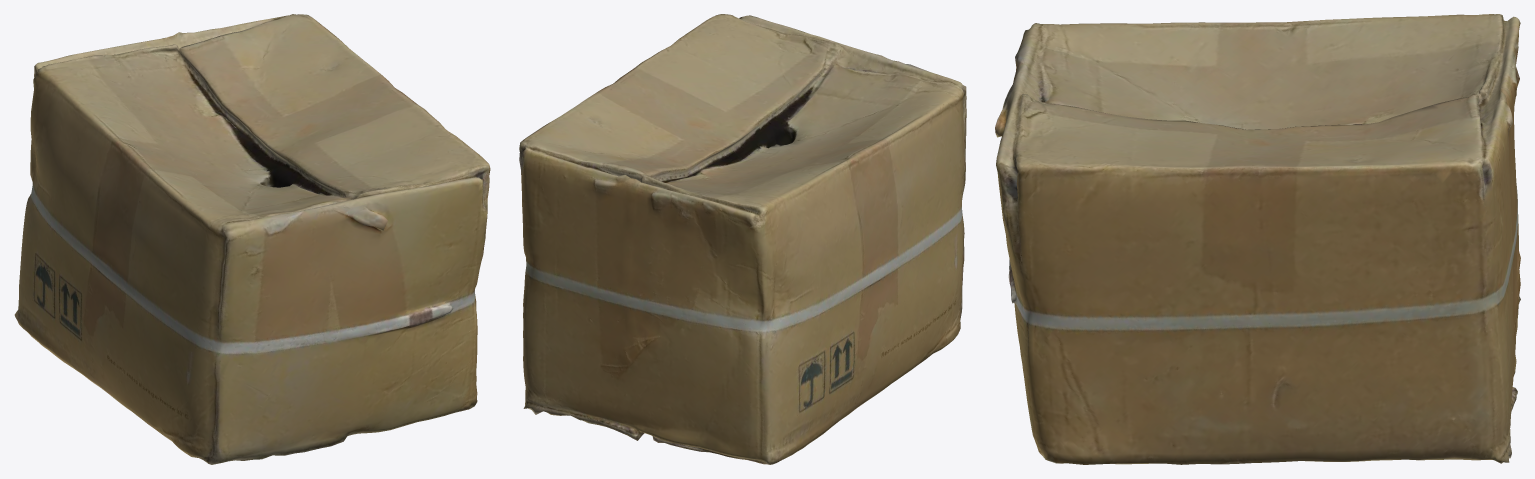
Rendered from cardboard_box_01.glb.
3 views of the same model, side by side, from view 1: azimuth 30°, elevation 25°; view 2: azimuth 150°, elevation 25°; view 3: azimuth 270°, elevation 25° (orthographic). The views are drawn at different scales.
Parts seen in each view (by area): view 1: cardboard_box_01; view 2: cardboard_box_01; view 3: cardboard_box_01.
Boxes of the visible parts, <box> form: cardboard_box_01: <box>14,14,490,464</box>; cardboard_box_01: <box>519,14,966,464</box>; cardboard_box_01: <box>995,14,1520,464</box>.
Size of the model in its own units: 0.387 by 0.3418 by 0.5159.
1 material, 1 textured.
